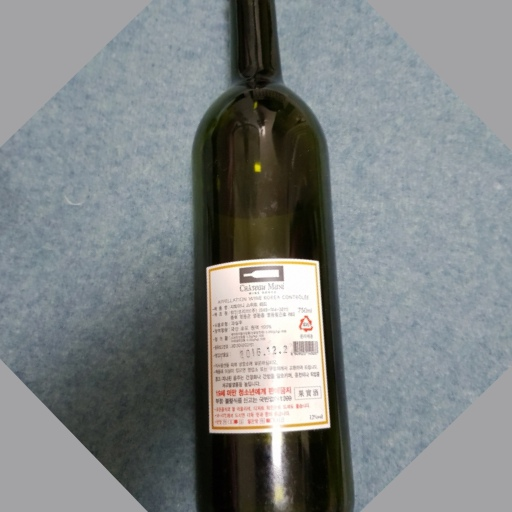Glass_2: (192, 1, 355, 512)
